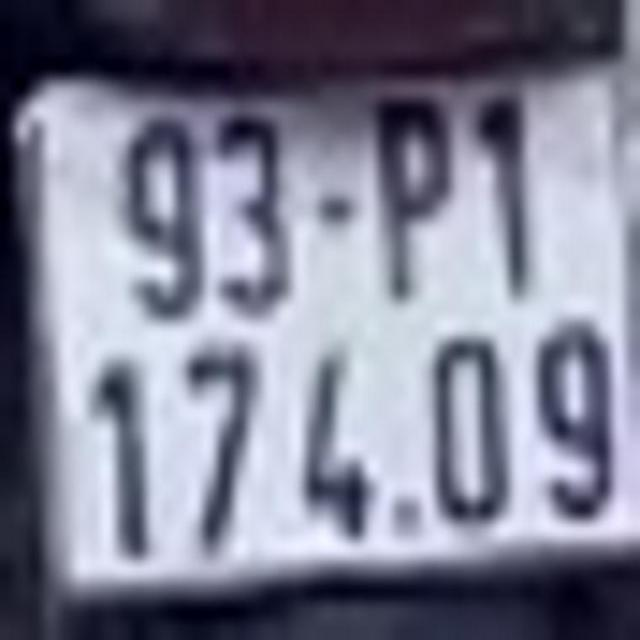0: (427, 335, 519, 539)
1: (85, 355, 167, 560), (465, 95, 546, 300)
3: (213, 112, 302, 323)
4: (302, 336, 382, 551)
7: (180, 343, 264, 563)
9: (117, 110, 203, 324), (536, 312, 619, 530)
P: (368, 87, 452, 307)
